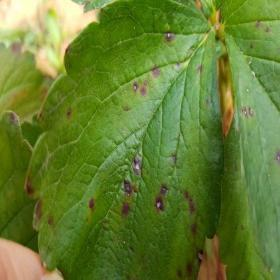Leaf Spot: (26, 0, 225, 279), (219, 0, 279, 279), (217, 113, 271, 279)
